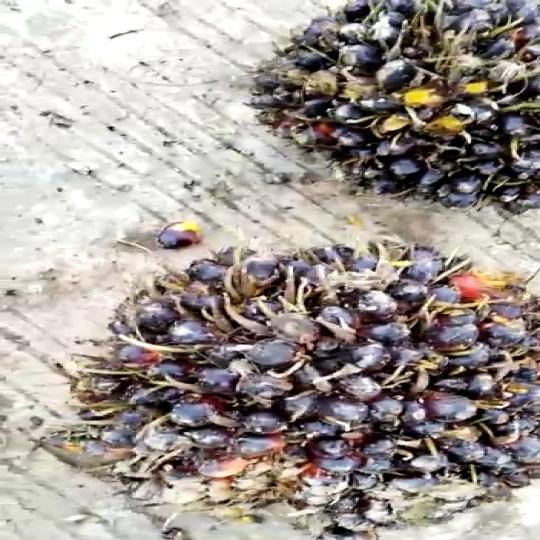mentah: (66, 218, 540, 538), (227, 0, 540, 213)
